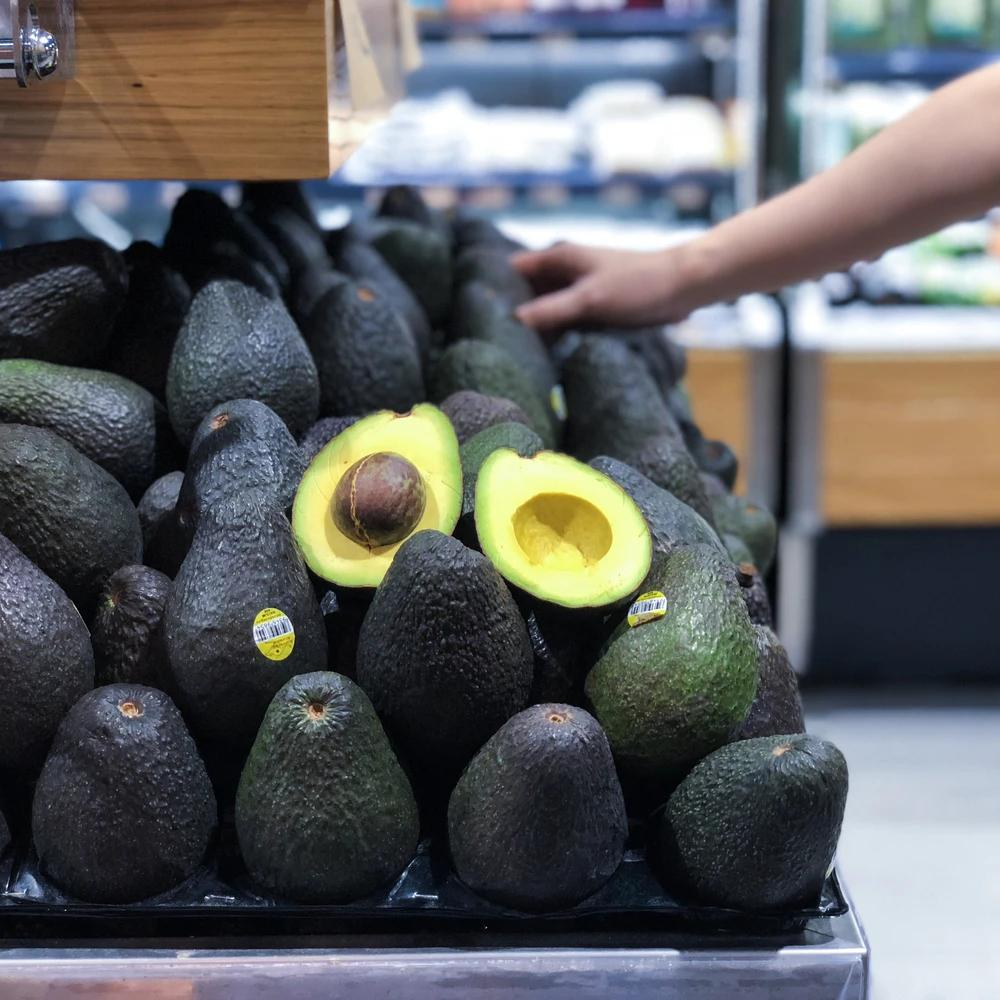almost: (234, 671, 421, 906), (662, 736, 849, 911), (1, 359, 165, 499)
ripe: (356, 529, 532, 798), (166, 488, 329, 736), (33, 682, 218, 892), (448, 701, 627, 913), (1, 423, 143, 611), (166, 279, 320, 440), (1, 534, 93, 752), (302, 281, 426, 419), (2, 237, 131, 367), (177, 399, 307, 524), (89, 564, 173, 688)
unripe: (581, 541, 757, 786), (459, 422, 543, 516)
